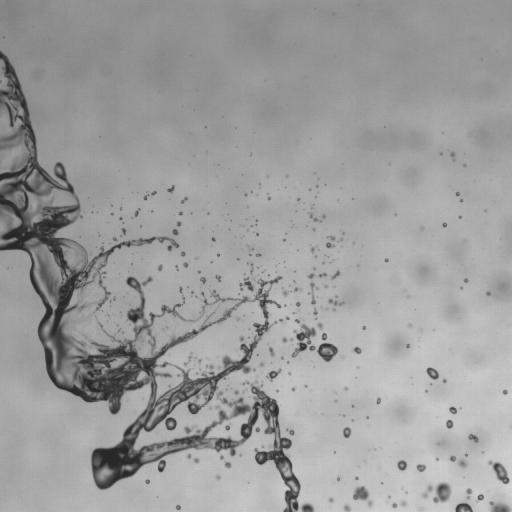droplet: (291, 319, 337, 362), (421, 482, 451, 503), (352, 486, 372, 506), (239, 276, 254, 291), (326, 236, 343, 248), (266, 368, 281, 381), (328, 297, 344, 308), (455, 502, 473, 511), (426, 367, 439, 379), (342, 427, 351, 437), (397, 460, 406, 470), (331, 270, 340, 279), (279, 316, 289, 324), (468, 434, 478, 442), (476, 494, 484, 502), (446, 419, 453, 428), (416, 464, 425, 471), (353, 347, 361, 354), (449, 406, 456, 414), (282, 289, 289, 296), (224, 461, 231, 468), (343, 504, 350, 511), (286, 428, 294, 434), (167, 186, 174, 192), (310, 246, 316, 253), (317, 322, 323, 329), (172, 229, 178, 235), (215, 275, 221, 281), (400, 500, 406, 506), (134, 209, 139, 216), (121, 228, 126, 234), (200, 277, 205, 283), (193, 458, 199, 463), (319, 273, 326, 277), (180, 251, 185, 256), (183, 262, 188, 267), (196, 358, 201, 363), (502, 389, 507, 394), (328, 497, 333, 502), (392, 503, 397, 508), (450, 152, 454, 158), (150, 191, 156, 195), (158, 264, 162, 270), (294, 287, 300, 291), (313, 309, 317, 315), (376, 398, 380, 404), (176, 221, 181, 225), (442, 222, 446, 227), (187, 453, 191, 458), (144, 195, 148, 199), (211, 237, 215, 241), (384, 258, 388, 262), (464, 278, 468, 282), (486, 291, 490, 295), (296, 302, 300, 306), (291, 387, 295, 391), (234, 390, 238, 394), (216, 475, 220, 479), (145, 479, 149, 483), (176, 505, 180, 509), (419, 507, 423, 511), (179, 287, 182, 292), (175, 266, 178, 270), (260, 363, 264, 366), (220, 455, 223, 459), (337, 476, 340, 480), (179, 212, 182, 215), (322, 215, 325, 218), (249, 247, 252, 250), (362, 326, 365, 329), (406, 344, 409, 347), (443, 379, 446, 382), (344, 387, 347, 390), (256, 254, 260, 256), (182, 296, 184, 300), (456, 193, 459, 195), (267, 197, 270, 199), (460, 199, 462, 202), (111, 212, 113, 215), (119, 217, 122, 219), (201, 292, 203, 295), (189, 319, 192, 321), (313, 228, 315, 230), (325, 285, 327, 287), (460, 287, 462, 289), (191, 292, 193, 294), (408, 324, 410, 326), (436, 458, 438, 460), (388, 496, 390, 498)
ligament: (0, 51, 314, 511), (488, 460, 509, 483), (308, 273, 316, 304), (489, 501, 511, 511), (450, 456, 466, 467), (308, 212, 320, 221), (184, 353, 193, 365), (282, 337, 293, 342), (466, 488, 471, 498), (161, 325, 169, 331), (269, 347, 274, 356), (249, 263, 253, 273), (181, 197, 187, 203)
